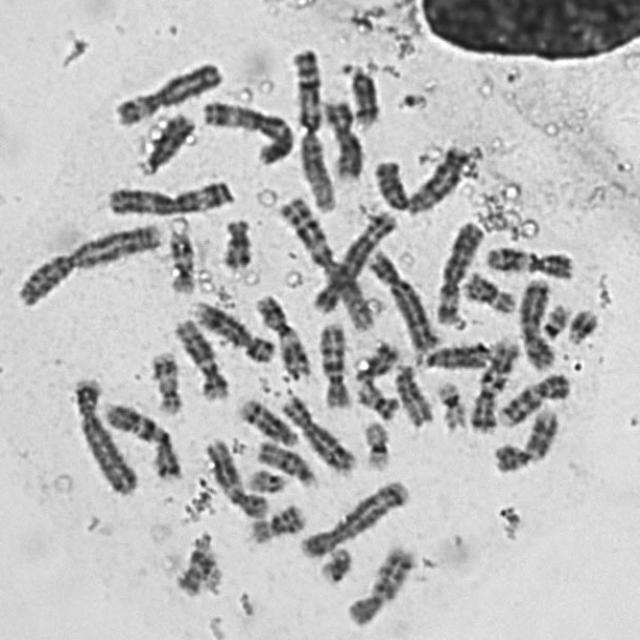A1: (271, 191, 378, 333), (286, 41, 340, 216)
A2: (10, 214, 166, 309), (367, 138, 473, 216)
A3: (196, 93, 298, 167), (101, 172, 237, 218)
B4: (67, 371, 142, 496), (362, 243, 444, 353)
B5: (294, 473, 414, 560), (307, 203, 400, 314)
C10: (341, 539, 420, 629), (313, 315, 354, 411)
C11: (249, 288, 313, 379), (480, 238, 578, 280)
C12: (200, 432, 272, 519), (167, 311, 232, 403)
C6: (108, 54, 225, 128), (430, 214, 488, 328)
C7: (97, 396, 184, 482), (465, 333, 522, 435)
C8: (277, 388, 359, 475), (187, 294, 279, 365)
C9: (488, 400, 562, 474), (490, 366, 573, 428)
D13: (133, 106, 197, 177), (412, 338, 493, 371)
D14: (233, 392, 303, 449), (335, 56, 383, 129)
D15: (250, 434, 320, 490), (389, 358, 436, 428)
E16: (244, 496, 309, 544), (458, 265, 519, 316)
E17: (144, 345, 185, 417), (163, 224, 198, 296)
E18: (458, 265, 519, 316), (216, 211, 255, 271)
F19: (430, 374, 470, 431), (357, 413, 394, 473)
F20: (352, 338, 404, 382), (352, 378, 401, 422)
G21: (314, 540, 355, 584), (561, 302, 601, 346)
G22: (536, 296, 573, 342), (242, 460, 292, 494)
X: (514, 272, 558, 371), (318, 92, 364, 182)
